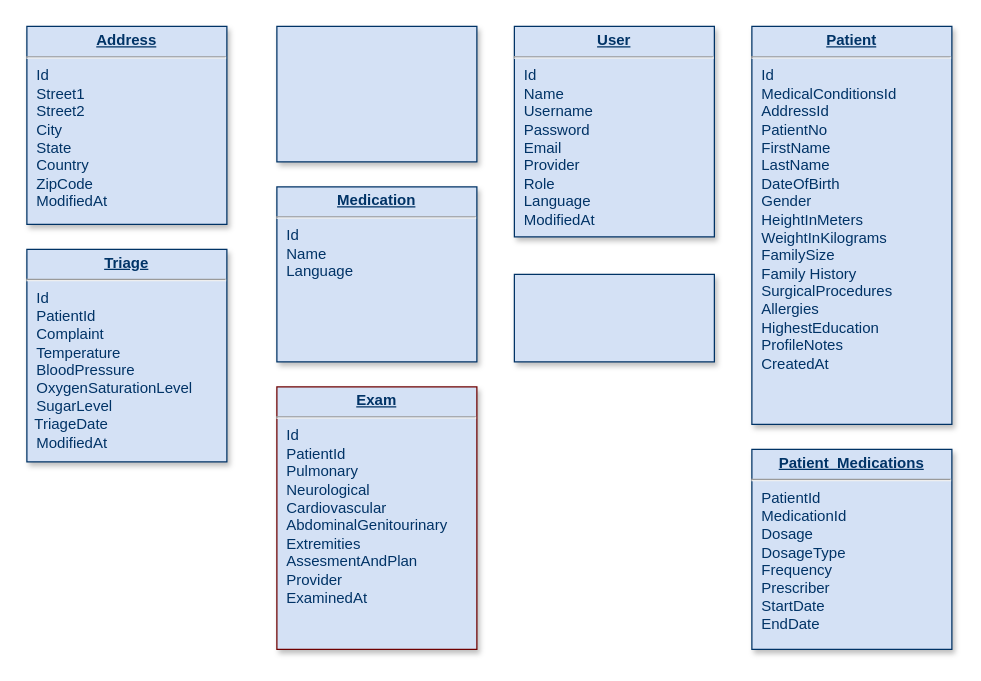
Image size: 981x681. Some labels were removed from this diagram. Each missing label, with the centre of its shape:
DosageType Id Name: the point at 615,319
MedicalConditions Id Name Description Type (chronic or past) SInceWhen: the point at 377,95
